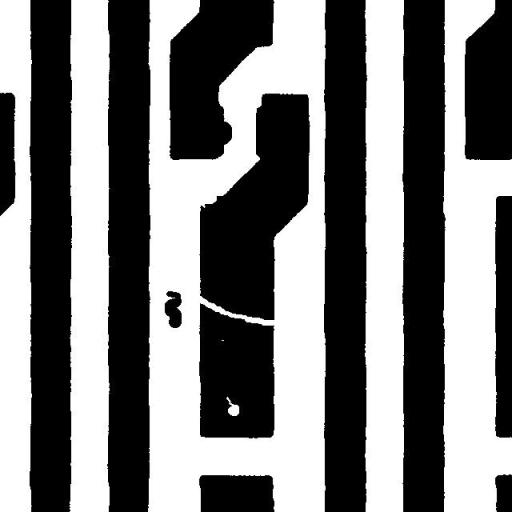copper: (157, 283, 189, 335)
mousebite: (188, 187, 224, 215)
open: (190, 288, 288, 333)
pin-hole: (218, 389, 246, 423)
spur: (208, 114, 239, 152)
